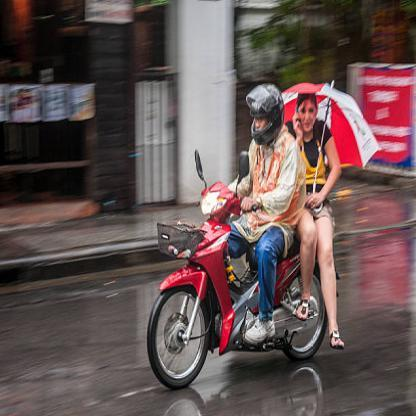Motorcycle: (144, 155, 338, 388)
